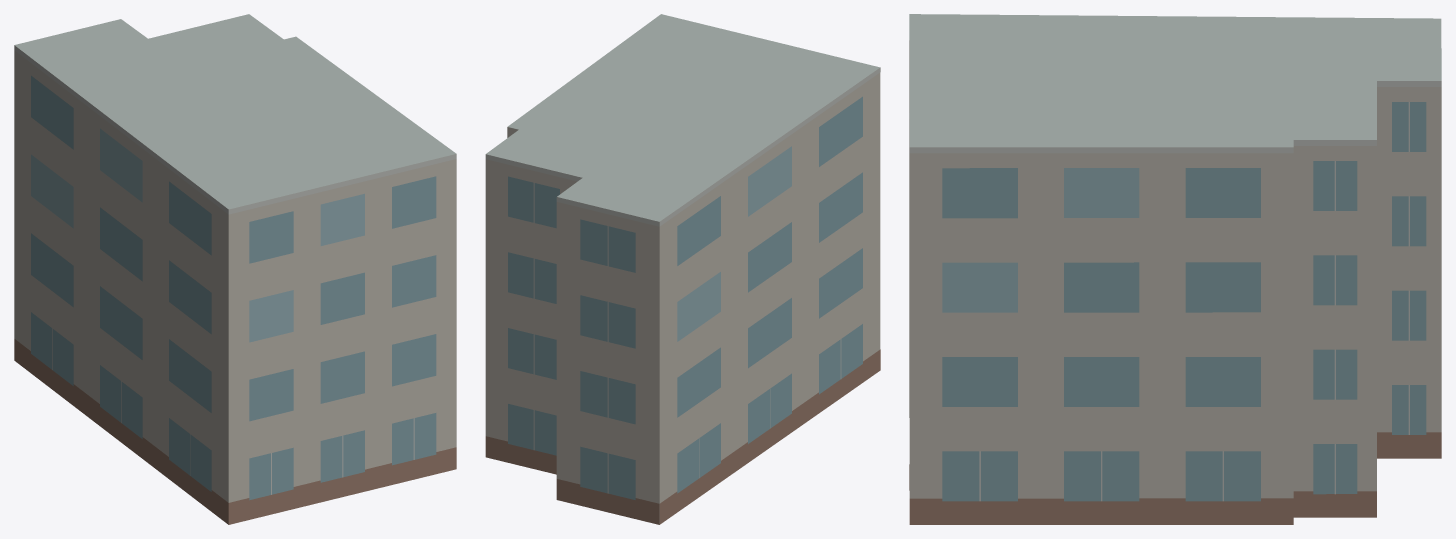
The model's file is survey-upis-32663665.glb.
The picture shows the model from 3 angles, left to right: view 1: azimuth 30°, elevation 25°; view 2: azimuth 150°, elevation 25°; view 3: azimuth 270°, elevation 25°; orthographic projection. The views are drawn at different scales.
Visible parts, largest first — view 1: survey-upis-32663665.tmp; view 2: survey-upis-32663665.tmp; view 3: survey-upis-32663665.tmp.
Part boxes in pixels (x1,y1,x2,y2): survey-upis-32663665.tmp: (14, 14, 456, 524); survey-upis-32663665.tmp: (485, 14, 880, 524); survey-upis-32663665.tmp: (909, 14, 1441, 524).
Bounding box in the file's own units: 11.45 × 15.11 × 19.31.
